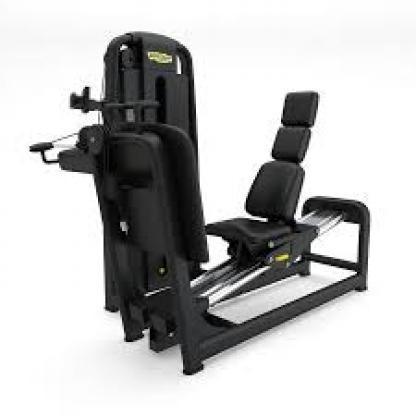leg press: (30, 24, 383, 387)
